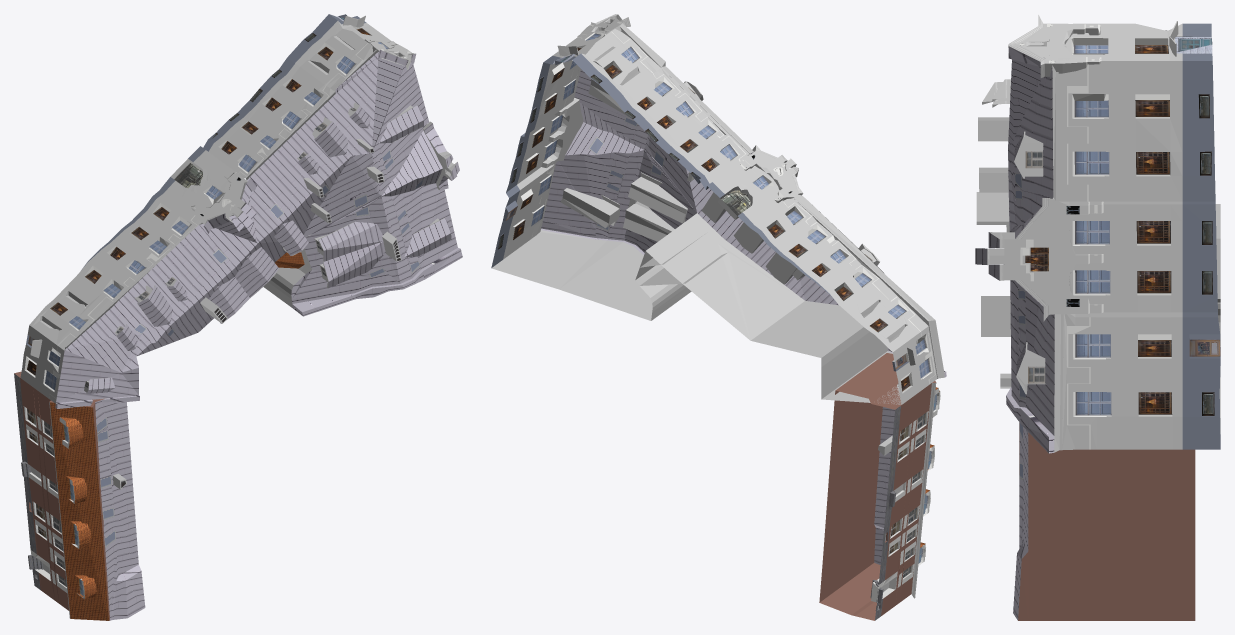
Rendered from Olevimagi_16-origo.obj.
3 renders of one model, left to right at view 1: azimuth 30°, elevation 25°; view 2: azimuth 150°, elevation 25°; view 3: azimuth 270°, elevation 25°, orthographic. The views are drawn at different scales.
Parts seen in each view (by area): view 1: polySurface57; view 2: polySurface57; view 3: polySurface57.
Part boxes in pixels (bbox=[...]): polySurface57: bbox=[14, 14, 462, 620]; polySurface57: bbox=[491, 14, 946, 620]; polySurface57: bbox=[975, 15, 1220, 620].
Bounding box in the file's own units: 46.12 × 54.5 × 14.96.
